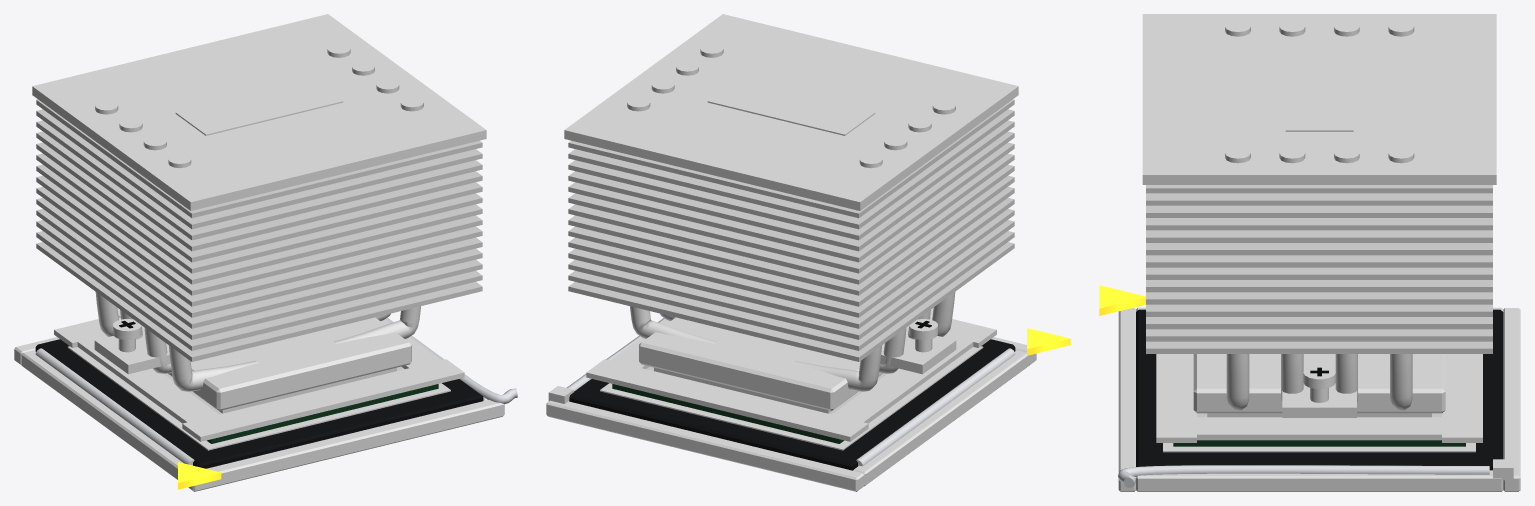
Rendered from asm_cpu_t2.glb.
3 views of the same model, side by side, from view 1: azimuth 30°, elevation 25°; view 2: azimuth 150°, elevation 25°; view 3: azimuth 270°, elevation 25° (orthographic). The views are drawn at different scales.
Parts seen in each view (by area): view 1: Cooler, Socket, Frame, CPU, Screw_0, Lever; view 2: Cooler, Socket, Frame, CPU, Screw_0; view 3: Cooler, Socket, Frame, Lever, CPU, Screw_1.
Boxes of the visible parts, x1,y1,x2,y2 form: Cooler: [32, 14, 486, 410]; Socket: [14, 320, 504, 491]; Frame: [54, 319, 464, 441]; CPU: [164, 366, 438, 443]; Screw_0: [113, 319, 141, 352]; Lever: [385, 317, 517, 403]; Cooler: [564, 14, 1018, 410]; Socket: [546, 317, 1070, 491]; Frame: [586, 319, 996, 441]; CPU: [612, 366, 886, 443]; Screw_0: [909, 319, 937, 352]; Cooler: [1142, 14, 1496, 417]; Socket: [1099, 285, 1520, 491]; Frame: [1156, 354, 1482, 442]; Lever: [1118, 465, 1489, 487]; CPU: [1173, 413, 1465, 446]; Screw_1: [1303, 365, 1335, 402].
Bounding box in the file's own units: 0.1338 × 0.1031 × 0.1239.
